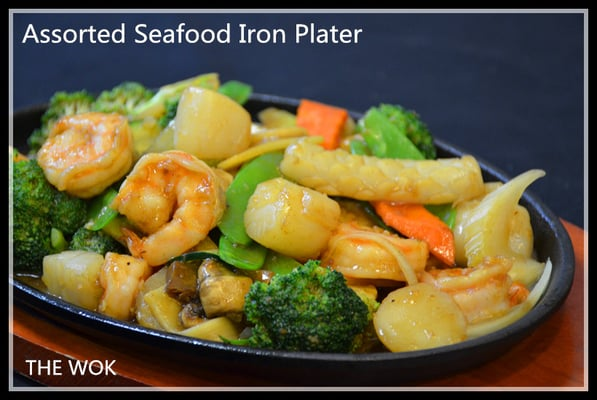curry: (28, 74, 220, 159), (242, 259, 371, 354), (12, 146, 88, 275), (217, 152, 284, 270), (346, 103, 438, 160)
